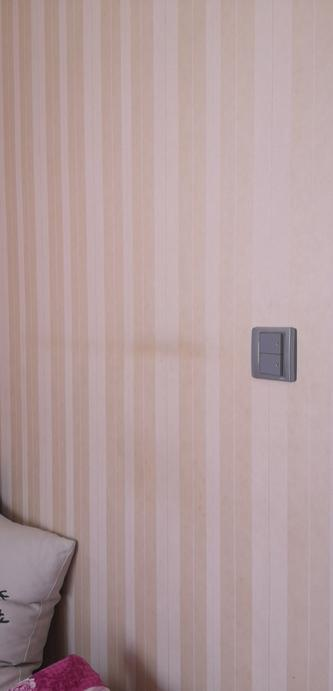switch: (251, 350, 290, 376), (253, 329, 290, 354)
